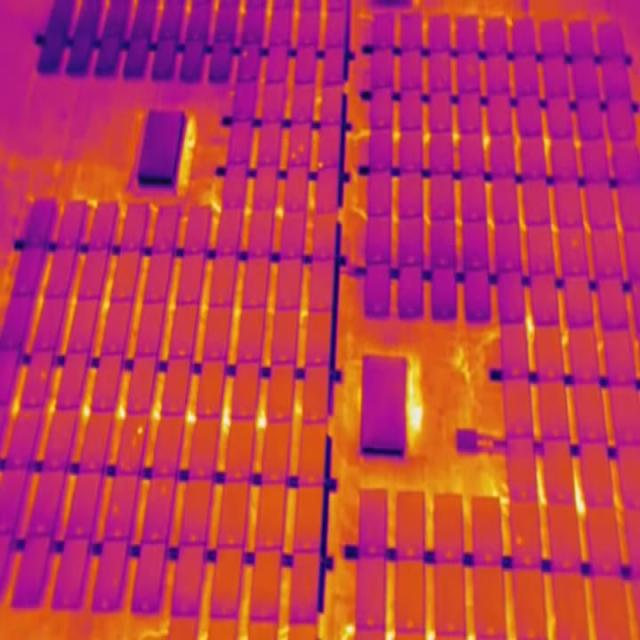Orange-Spots: (137, 427, 143, 435), (318, 161, 324, 168), (292, 151, 296, 159)
